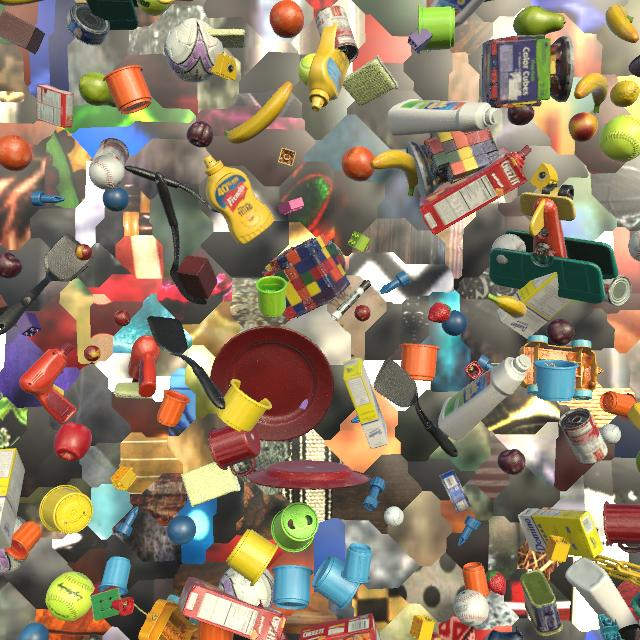ycb_003_cracker_box: (420, 147, 528, 235), (178, 577, 287, 640), (299, 613, 381, 640)
ycb_004_sugar_box: (497, 272, 573, 339), (518, 508, 604, 558), (343, 357, 388, 448), (0, 448, 25, 548)
ycb_005_tomato_soup_can: (559, 408, 608, 465), (315, 5, 359, 64), (91, 138, 129, 167), (603, 274, 632, 306)
ycb_006_mustard_bottle: (203, 155, 274, 245), (308, 22, 350, 111), (627, 402, 640, 431)
ycb_007_tuna_fish_can: (65, 2, 110, 46), (439, 470, 471, 513)
ycb_008_pudding_box: (634, 615, 640, 640)
ycb_009_gelatin_box: (36, 85, 73, 128)
ycb_010_potted_meat_can: (520, 570, 563, 636)
ycb_011_banana: (224, 82, 293, 144), (370, 150, 418, 196), (574, 73, 608, 113), (605, 4, 639, 43), (486, 293, 527, 319), (0, 0, 44, 6)
ycb_012_strawberry: (428, 302, 452, 323), (486, 571, 506, 596)
ycb_013_apple: (54, 422, 92, 462)
ycb_014_lemon: (610, 80, 640, 107)
ycb_015_peach: (568, 112, 598, 142)
ycb_016_pear: (513, 5, 566, 36), (78, 73, 116, 107), (636, 451, 640, 472)
ycb_017_orange: (269, 0, 304, 38), (342, 146, 375, 182), (0, 135, 32, 171)
ycb_018_plum: (546, 319, 575, 346), (497, 449, 526, 475), (187, 121, 213, 148), (0, 252, 23, 279), (507, 106, 535, 126)
